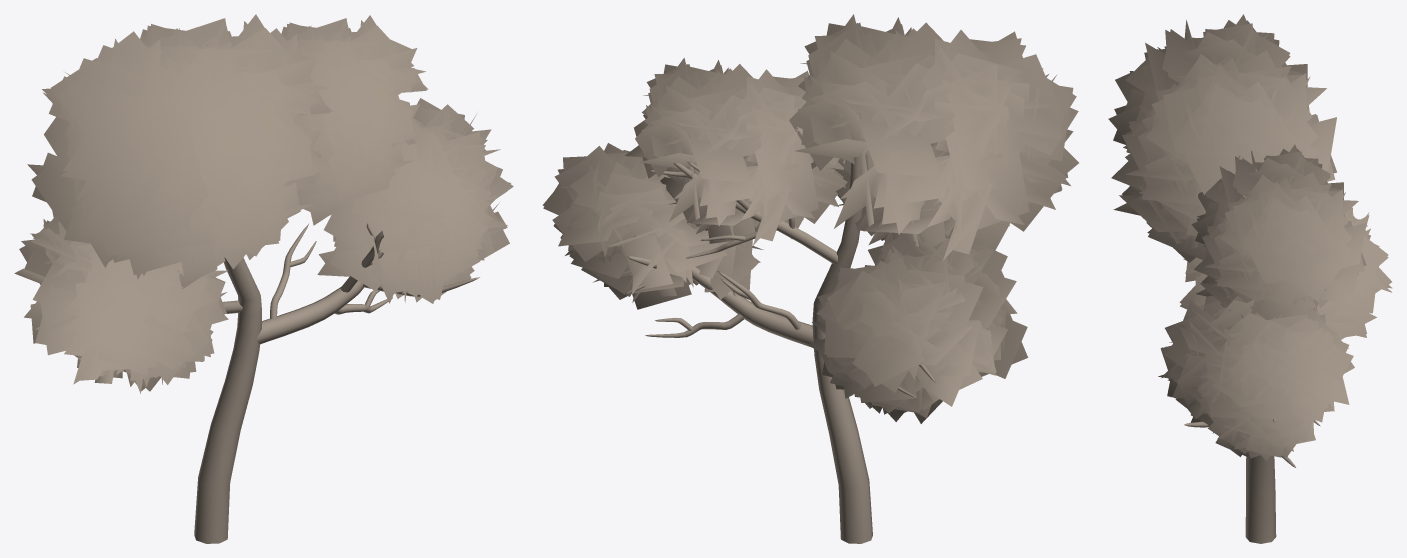
The model's file is NormalTree_3.glb.
The picture shows the model from 3 angles, left to right: view 1: azimuth 30°, elevation 25°; view 2: azimuth 150°, elevation 25°; view 3: azimuth 270°, elevation 25°; orthographic projection. The views are drawn at different scales.
Parts seen in each view (by area): view 1: NormalTree_Leaves, NormalTree_Bark; view 2: NormalTree_Leaves, NormalTree_Bark; view 3: NormalTree_Leaves, NormalTree_Bark.
Boxes of the visible parts, bbox=[...] form: NormalTree_Leaves: bbox=[14, 14, 513, 393]; NormalTree_Bark: bbox=[194, 44, 479, 543]; NormalTree_Leaves: bbox=[542, 14, 1078, 423]; NormalTree_Bark: bbox=[624, 62, 935, 543]; NormalTree_Leaves: bbox=[1108, 14, 1392, 461]; NormalTree_Bark: bbox=[1184, 289, 1325, 543].
Bounding box in the file's own units: 5.04 × 5.28 × 2.88.
